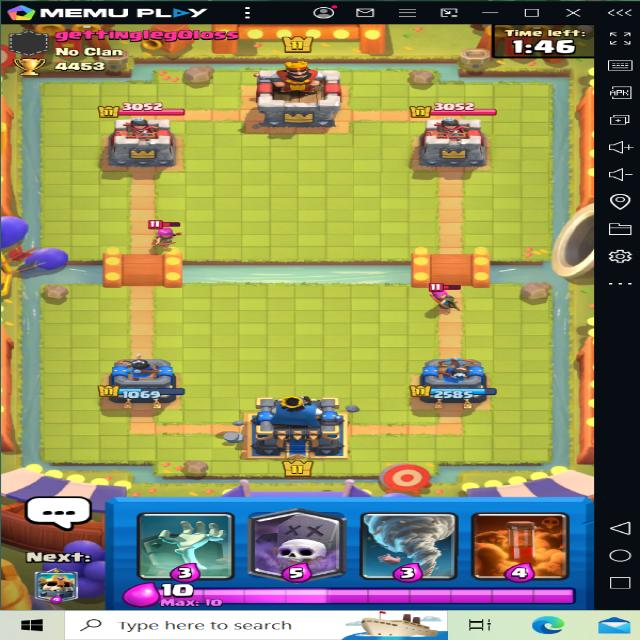archer: (136, 216, 188, 247), (419, 282, 464, 315)
